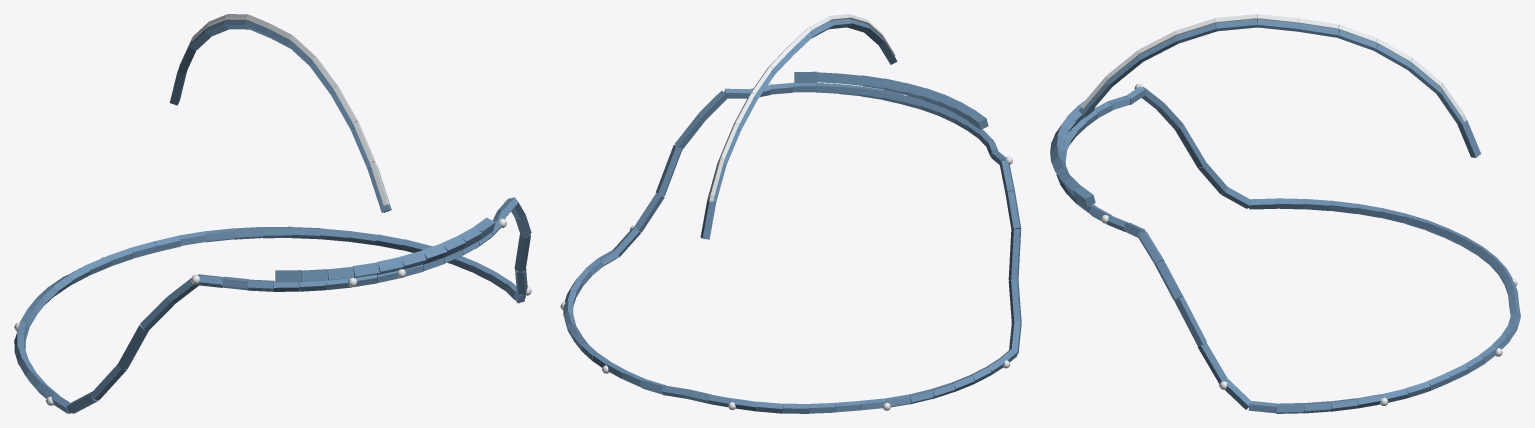
The model's file is HelmTrim_Titanium.fbx.
The picture shows the model from 3 angles, left to right: view 1: azimuth 30°, elevation 25°; view 2: azimuth 150°, elevation 25°; view 3: azimuth 270°, elevation 25°; orthographic projection. The views are drawn at different scales.
Visible parts, largest first — view 1: HelmTrim_Titanium; view 2: HelmTrim_Titanium; view 3: HelmTrim_Titanium.
Part boxes in pixels (bbox=[...]): HelmTrim_Titanium: bbox=[14, 14, 531, 413]; HelmTrim_Titanium: bbox=[560, 14, 1021, 413]; HelmTrim_Titanium: bbox=[1050, 14, 1520, 413].
Bounding box in the file's own units: 0.6384 × 0.4196 × 0.6004.
